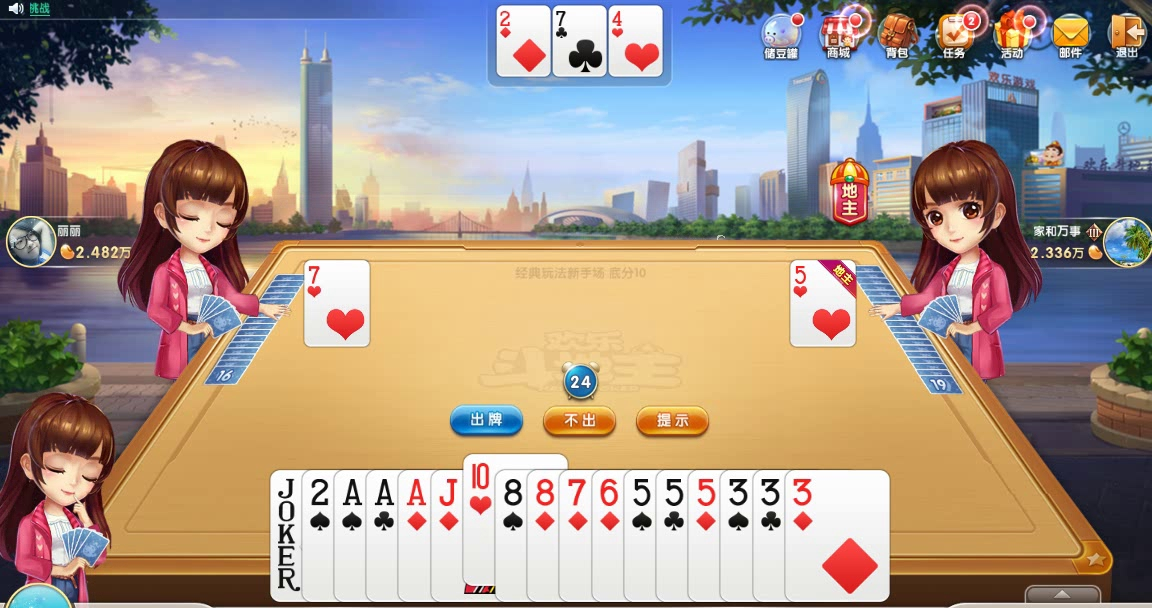10~3: (462, 453, 569, 586)
11~1: (429, 470, 536, 603)
14~1: (397, 470, 504, 603)
14~2: (365, 470, 472, 603)
14~4: (333, 470, 440, 603)
15~1: (497, 5, 553, 77)
15~4: (301, 469, 408, 602)
17~3: (269, 469, 376, 602)
3~1: (783, 471, 890, 604)
3~2: (751, 470, 858, 603)
3~4: (718, 470, 825, 603)
4~3: (608, 4, 664, 76)
5~1: (687, 470, 794, 603)
5~2: (655, 470, 762, 603)
5~3: (790, 260, 856, 346)
5~4: (621, 470, 728, 603)
6~1: (591, 470, 698, 603)
7~1: (558, 470, 665, 603)
7~2: (552, 4, 608, 76)
7~3: (304, 259, 371, 347)
8~1: (526, 470, 633, 603)
8~4: (494, 470, 601, 603)
